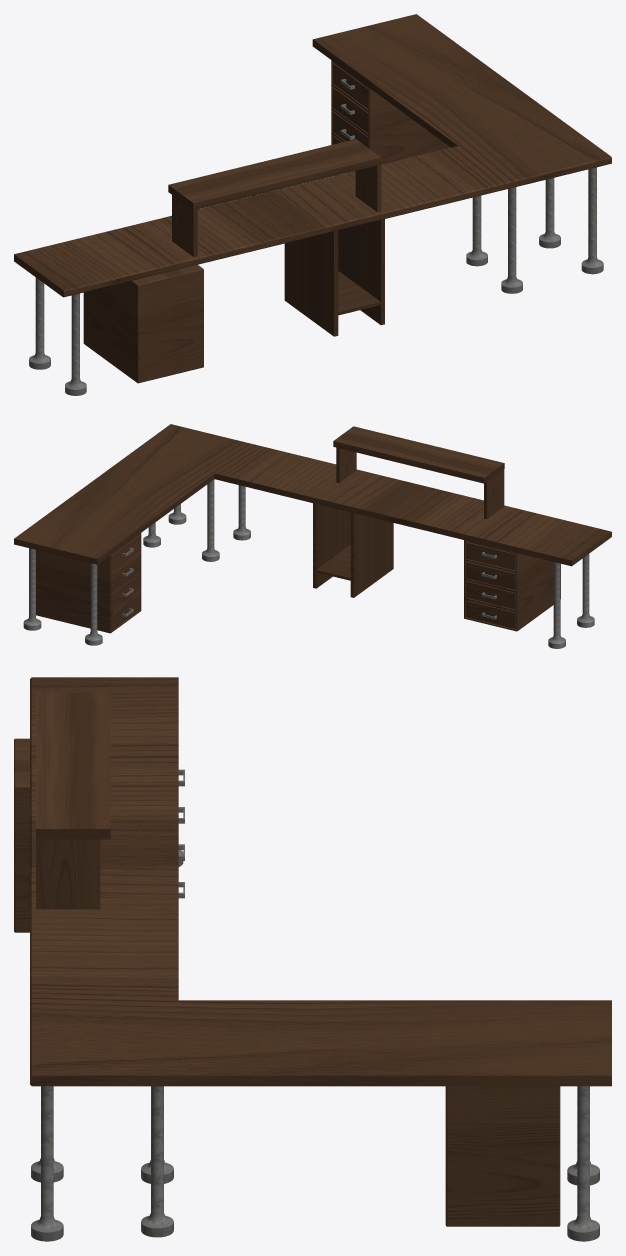
Rendered from Long_Table.fbx.
The picture shows the model from 3 angles, top to bottom: view 1: azimuth 30°, elevation 25°; view 2: azimuth 150°, elevation 25°; view 3: azimuth 270°, elevation 25°; orthographic projection. The views are drawn at different scales.
Parts seen in each view (by area): view 1: Cube.172, Cube.173, Cube.160, Cube.108, Cylinder.009, Cylinder.010, Cylinder.012, Cylinder.005, Cylinder.011, Cylinder.006; view 2: Cube.172, Cube.108, Cube.173, Cube.160, Cylinder.005, Cylinder.007, Cylinder.006, Cylinder.008, Cylinder.012, Cylinder.010; view 3: Cube.172, Cube.108, Cube.160, Cube.173, Cylinder.009, Cylinder.008, Cylinder.011.
Boxes of the visible parts, <box> form: Cube.172: <box>14,14,611,336</box>; Cube.173: <box>83,264,203,383</box>; Cube.160: <box>168,139,381,256</box>; Cube.108: <box>331,60,450,164</box>; Cylinder.009: <box>581,167,603,274</box>; Cylinder.010: <box>501,187,522,293</box>; Cylinder.012: <box>65,293,86,395</box>; Cylinder.005: <box>29,277,50,369</box>; Cylinder.011: <box>539,178,560,248</box>; Cylinder.006: <box>466,195,487,266</box>; Cube.172: <box>14,424,611,597</box>; Cube.108: <box>36,533,141,633</box>; Cube.173: <box>464,540,560,631</box>; Cube.160: <box>333,426,504,519</box>; Cylinder.005: <box>548,562,565,648</box>; Cylinder.007: <box>85,563,102,645</box>; Cylinder.006: <box>202,479,219,561</box>; Cylinder.008: <box>23,548,41,630</box>; Cylinder.012: <box>577,554,594,627</box>; Cylinder.010: <box>233,485,250,540</box>; Cube.172: <box>30,677,611,1086</box>; Cube.108: <box>445,1086,560,1226</box>; Cube.160: <box>36,692,110,909</box>; Cube.173: <box>14,738,184,932</box>; Cylinder.009: <box>31,1086,63,1241</box>; Cylinder.008: <box>567,1086,599,1241</box>; Cylinder.011: <box>141,1086,173,1237</box>.
Size of the model in its own units: 552 by 161 by 350.
2 materials, 2 textured.
